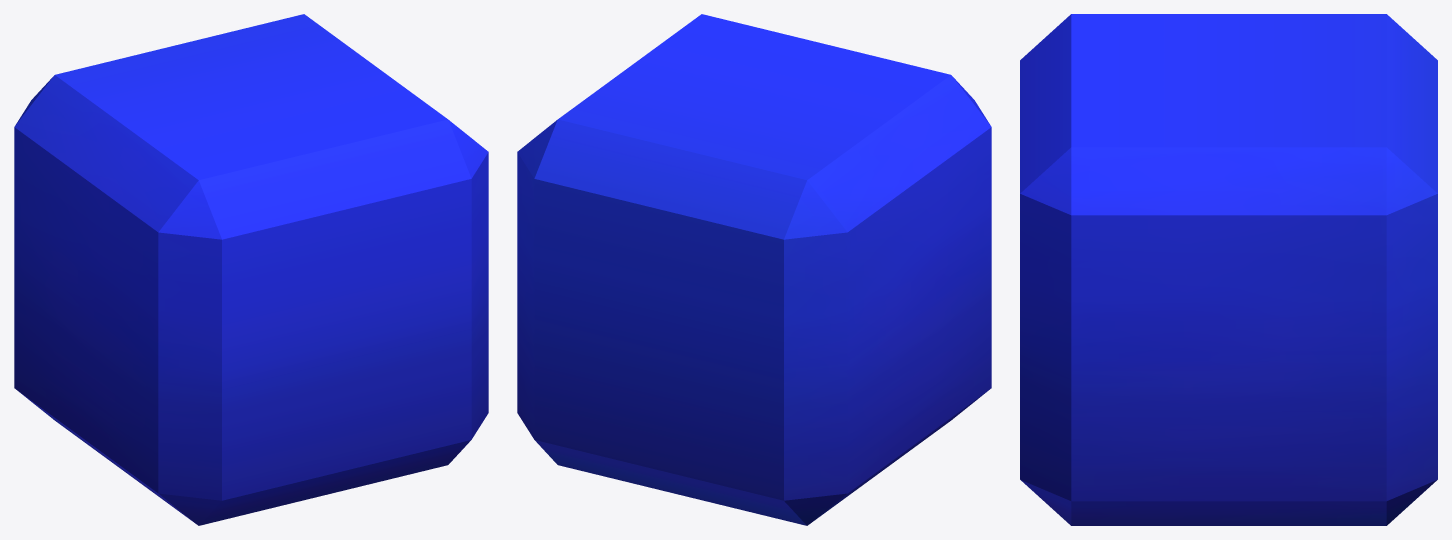
The model's file is 371edfcf-e96b-41d5-82f5-44d28c5a4c9b.glb.
The picture shows the model from 3 angles, left to right: view 1: azimuth 30°, elevation 25°; view 2: azimuth 150°, elevation 25°; view 3: azimuth 270°, elevation 25°; orthographic projection. The views are drawn at different scales.
Parts seen in each view (by area): view 1: CyberPunkCubeShapeA.008; view 2: CyberPunkCubeShapeA.008; view 3: CyberPunkCubeShapeA.008.
Boxes of the visible parts, x1=… form: CyberPunkCubeShapeA.008: x1=14, y1=14, x2=488, y2=525; CyberPunkCubeShapeA.008: x1=517, y1=14, x2=991, y2=525; CyberPunkCubeShapeA.008: x1=1020, y1=14, x2=1437, y2=525.
Size of what is drawn, in the model's own units: 0.7462 by 0.7462 by 0.7462.
Materials: 1 (1 with a texture image).
